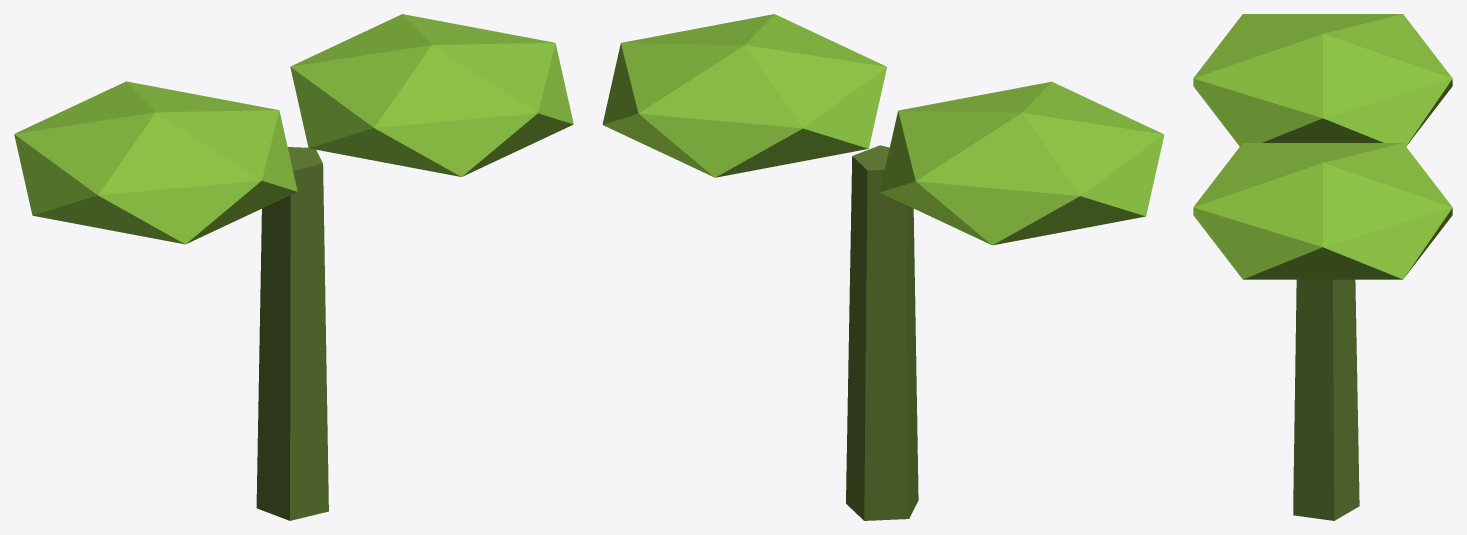
File: f03-tanaman-1.glb
3 renders of one model, left to right at view 1: azimuth 30°, elevation 25°; view 2: azimuth 150°, elevation 25°; view 3: azimuth 270°, elevation 25°, orthographic. The views are drawn at different scales.
Visible parts, largest first — view 1: EX_kebun:daun-muda, EX_kebun:batang; view 2: EX_kebun:daun-muda, EX_kebun:batang; view 3: EX_kebun:daun-muda, EX_kebun:batang.
Part boxes in pixels (x1,y1,x2,y2): EX_kebun:daun-muda: (14,14,573,244); EX_kebun:batang: (256,147,328,520); EX_kebun:daun-muda: (602,14,1164,245); EX_kebun:batang: (846,145,918,520); EX_kebun:daun-muda: (1193,14,1452,279); EX_kebun:batang: (1293,279,1359,520).
Size of the model in its own units: 0.1894 by 0.1475 by 0.0851.
